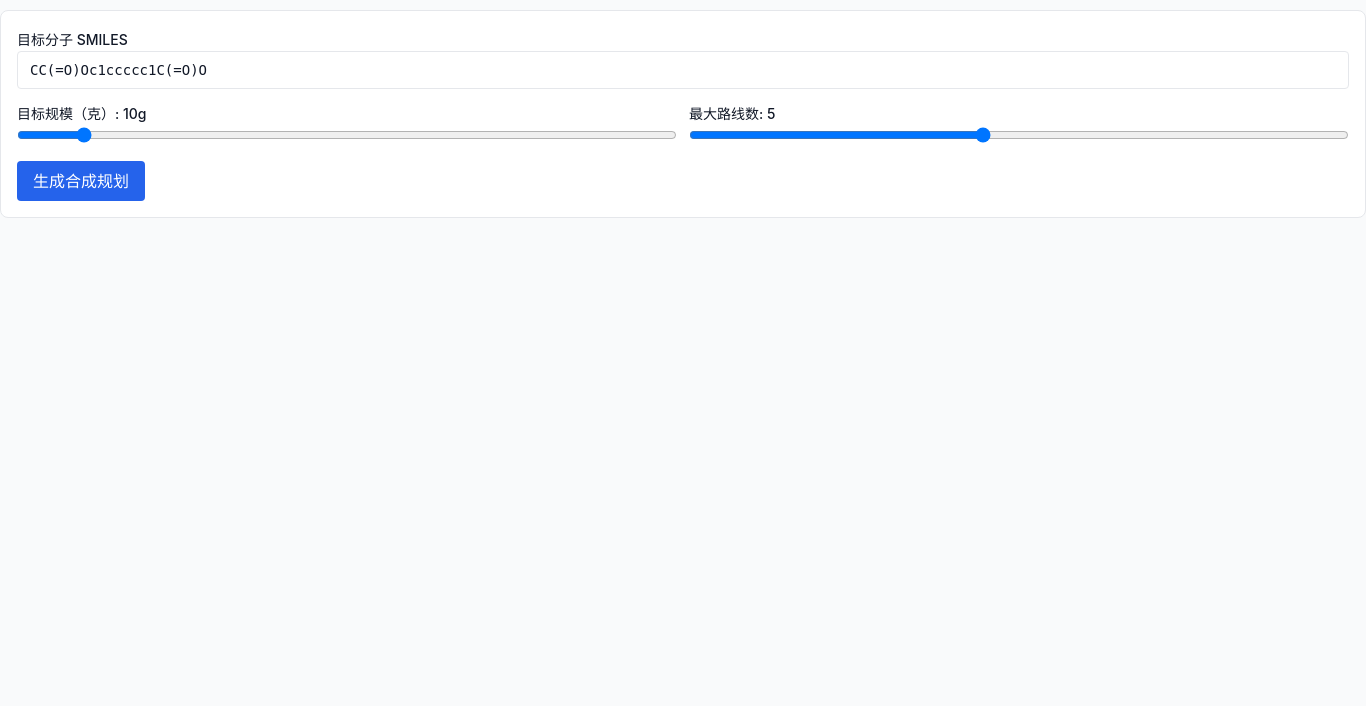
Test: SynthesisPage › 成功后展示 AI 合成推荐
Click the button "生成合成规划" at (81, 181), box [17,161,145,201]
(page scrolled)
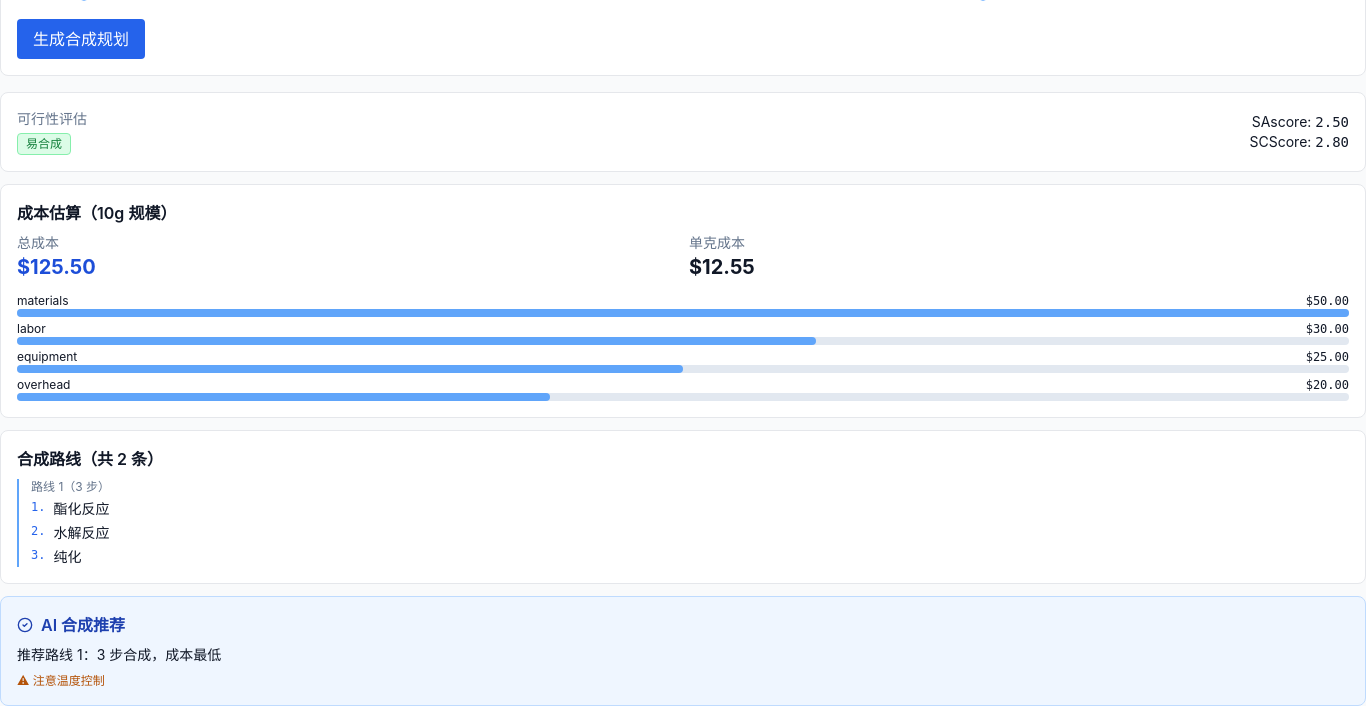
Expected: the heading "AI 合成推荐" is shown, [17,615,125,635]
Expected: the text "推荐路线 1：3 步合成，成本最低" is shown, [17,646,221,663]
